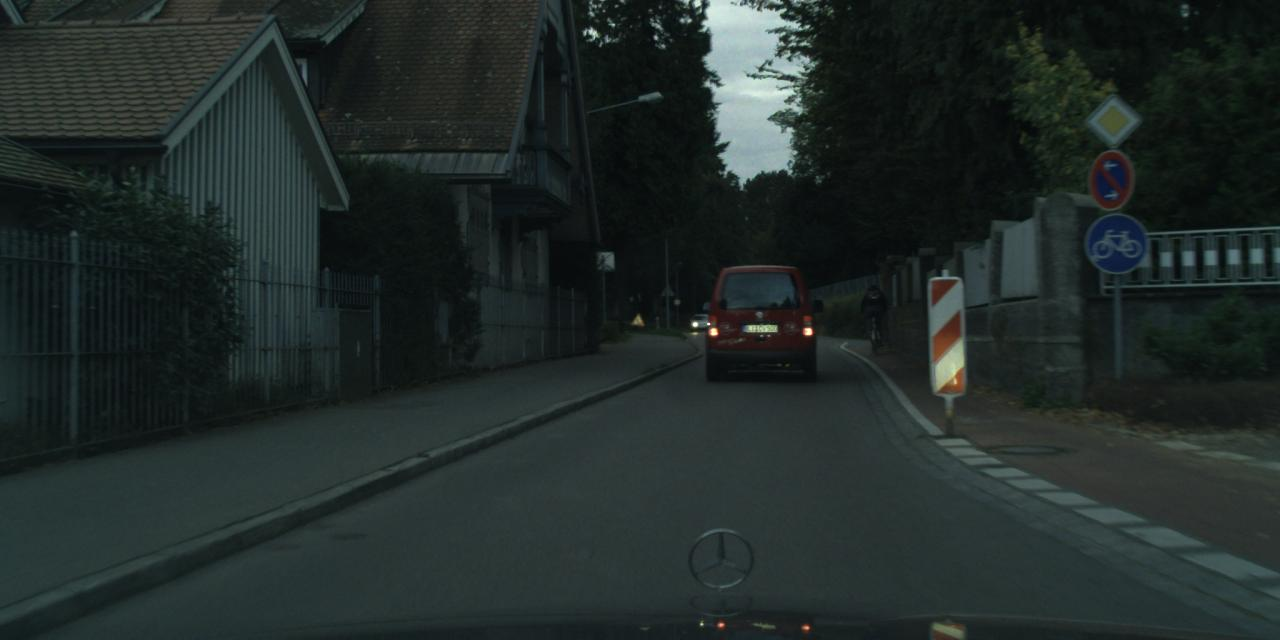ped: (862, 283, 886, 341)
